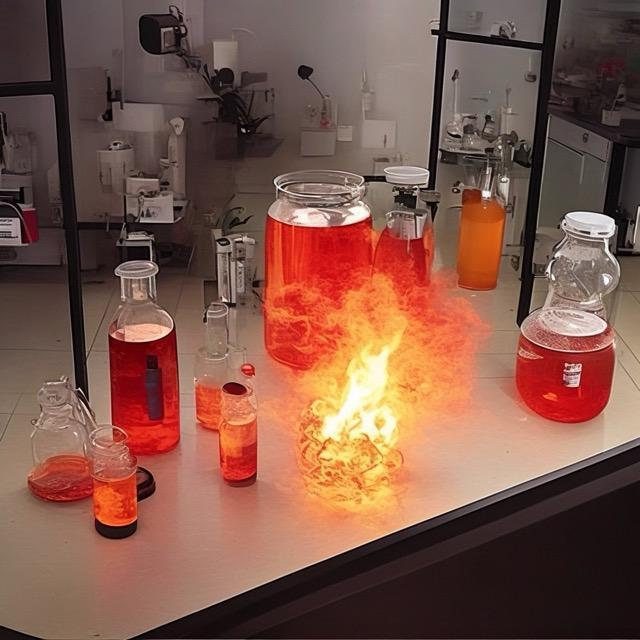smoke: (279, 256, 474, 513)
